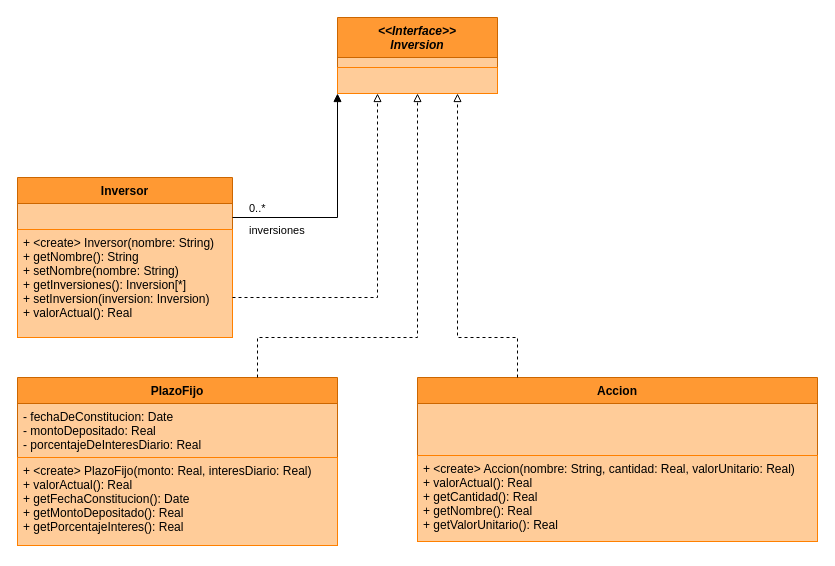
Image size: 835x566. Some labels were removed from this diagram. Here are the shapes that lost their labels. From the top down, the box of each, then its label:
(336, 66, 498, 94): + valorActual(): Real
(16, 202, 232, 230): - nombre: String
(416, 402, 818, 456): - nombre: String - cantidad: Real - valorUnitario: Real
